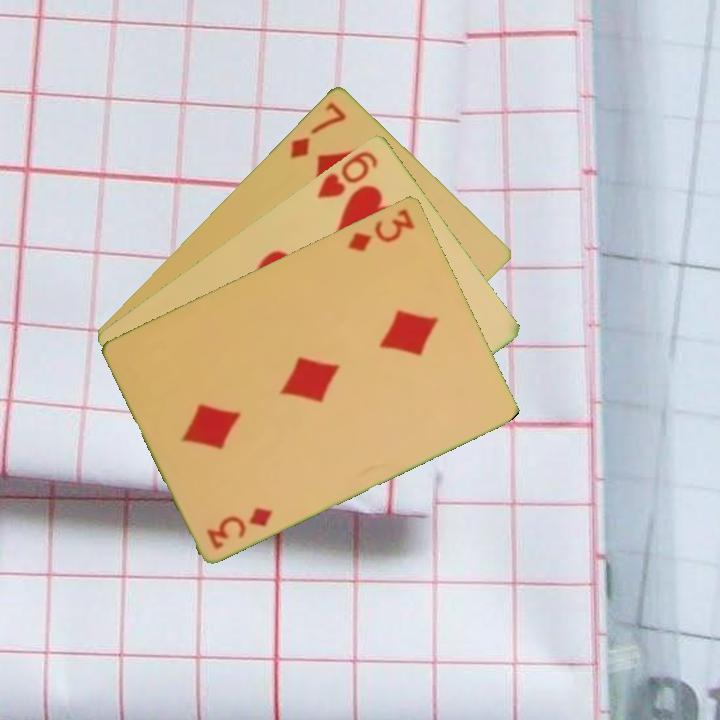3d: (344, 204, 419, 254), (203, 503, 276, 552)
6h: (313, 147, 381, 201)
7d: (286, 98, 349, 161)
